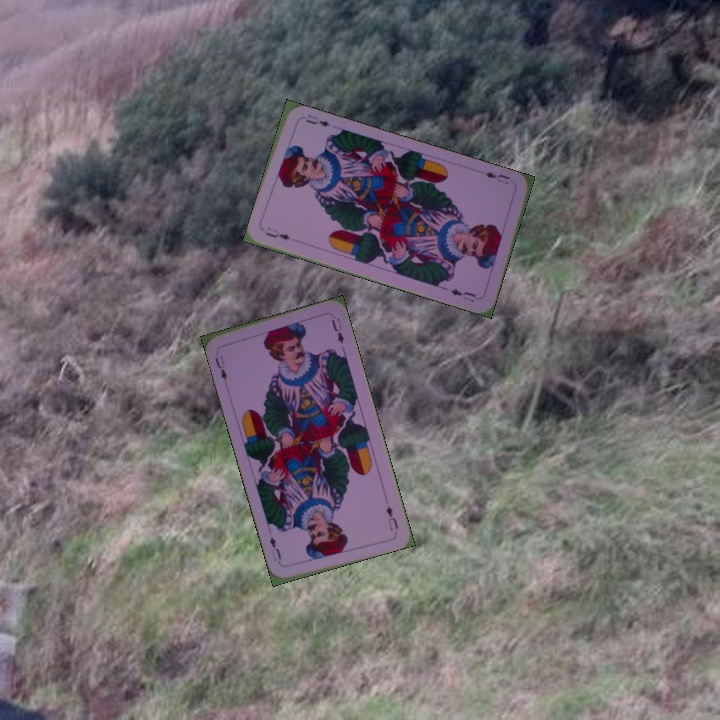EU: (481, 168, 516, 187), (262, 223, 293, 243), (211, 351, 230, 383), (382, 502, 401, 533)
